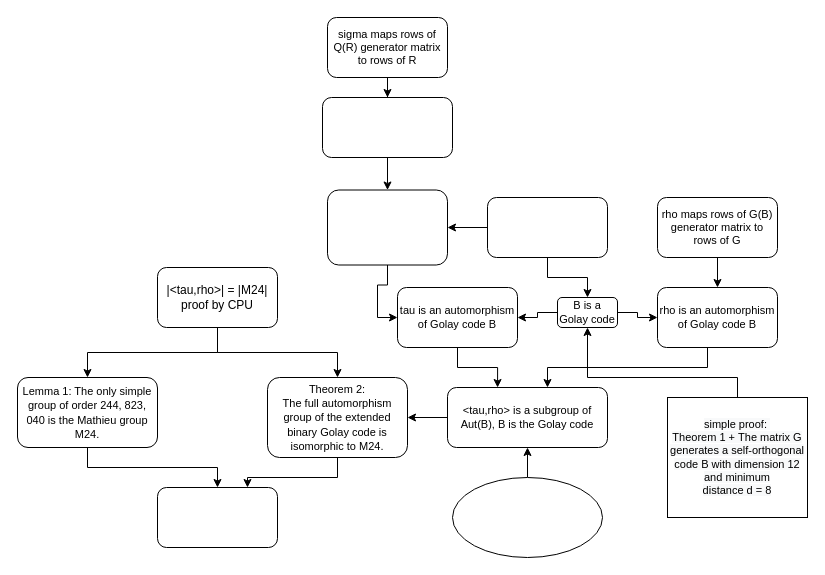
Some shapes in this 825 by 575 pixel diagram are drawn without their labels. The shapes that lost their labels are listed below. From the top down, each one's centre as x and y in pixels, then its label:
the point at 387,127: sigma is an automorphism on Golay code R
the point at 387,227: tau = chi^-1 sigma chi tau is 1-1, tau map vectors in B to vectors in B
the point at 547,227: chi is an equivalence mapping from R to B
the point at 217,517: <tau, rho> =~ M24
the point at 527,517: <a,b> is a subgroup of G given a,b are elements of G
